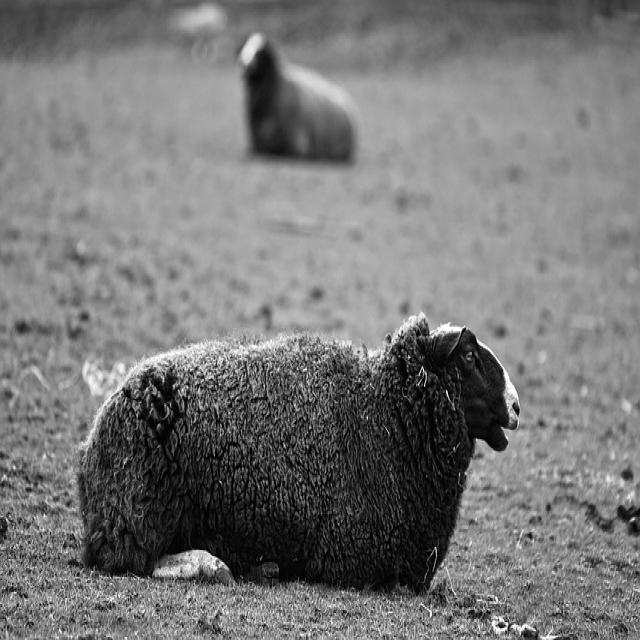sheep: (75, 310, 520, 595), (234, 30, 360, 163)
